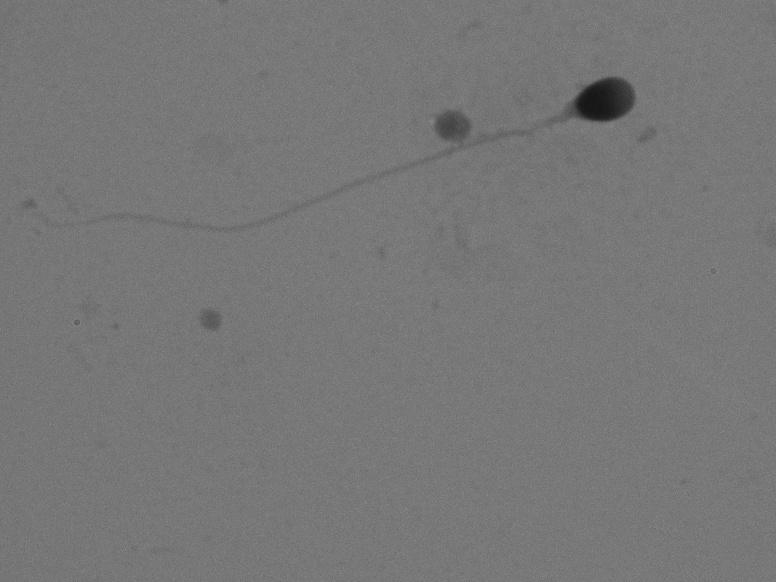Normal: (30, 68, 644, 276)
